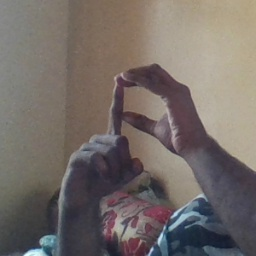P: (62, 61, 199, 191)
